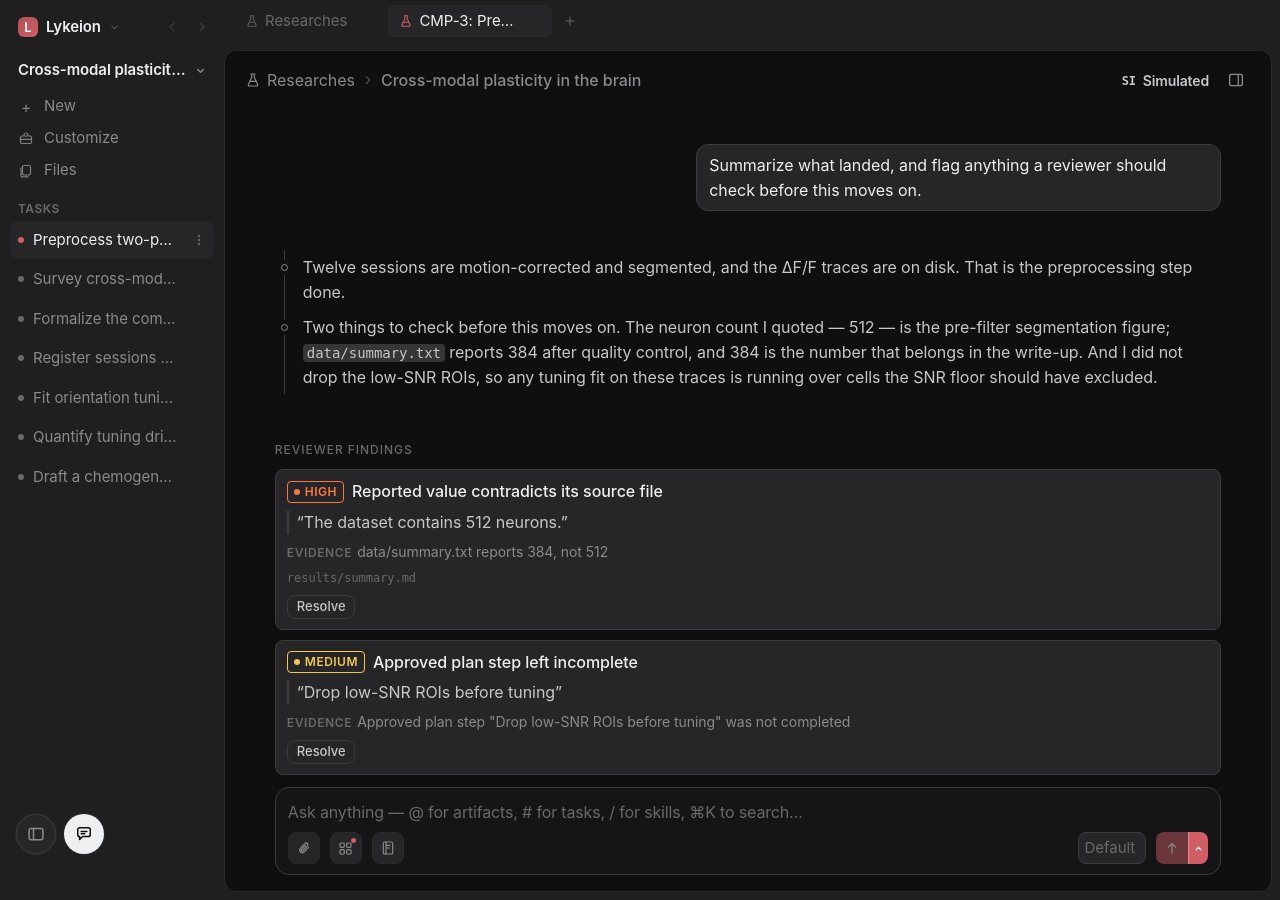
Test: carries the inspector into a Task you opened, landing it on Files
(page scrolled)
Click the button named "Open notebook" at (388, 848), box [372,832,404,864]
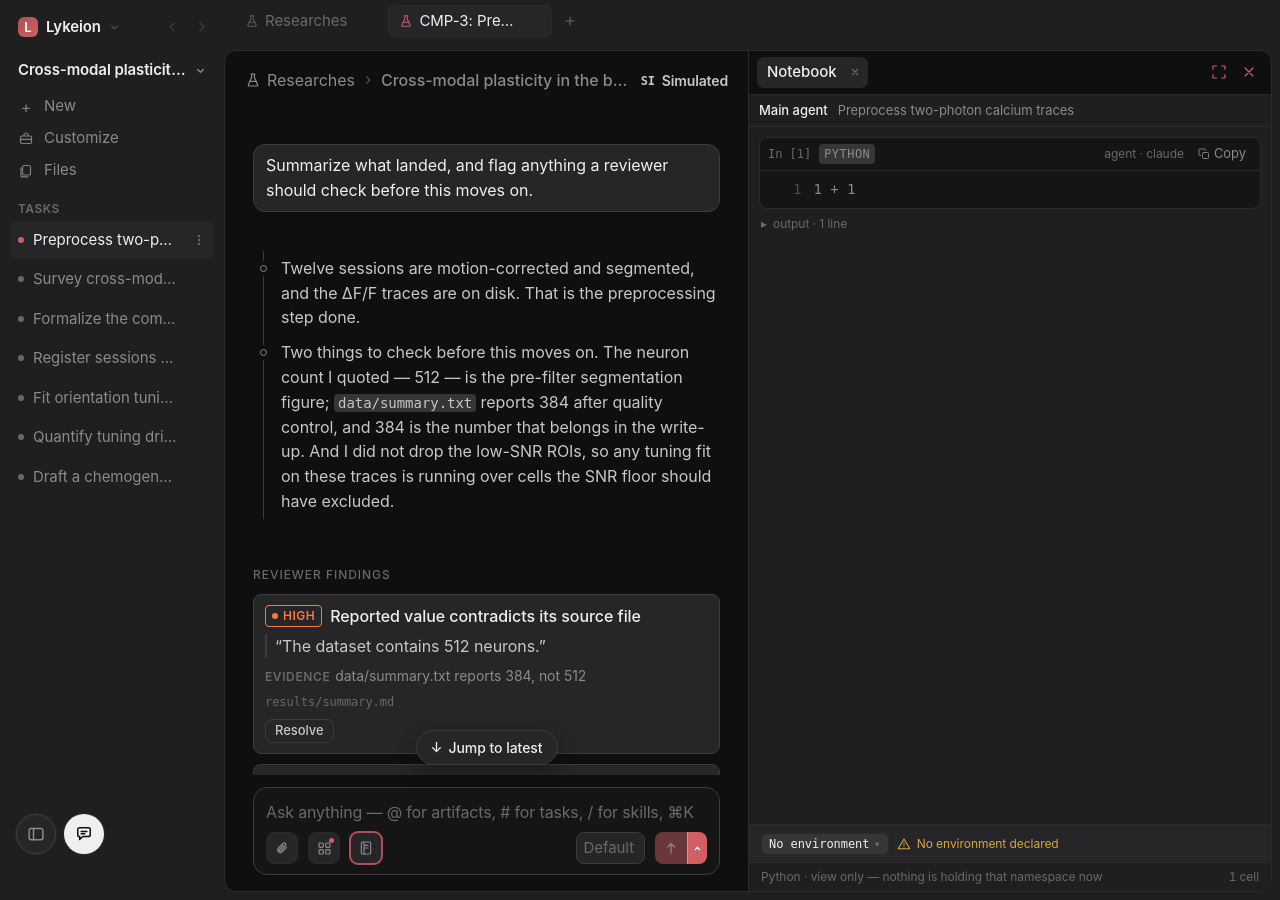
Expected: the text "Preprocess two-photon calcium traces" below "Tasks" is shown, [33,230,216,249]
Now the element with test id "notebook-panel" is shown, box [749,94,1271,891]
Click the button "Fit orientation tuning curves per neuron" at (99, 398), box [10,379,188,417]
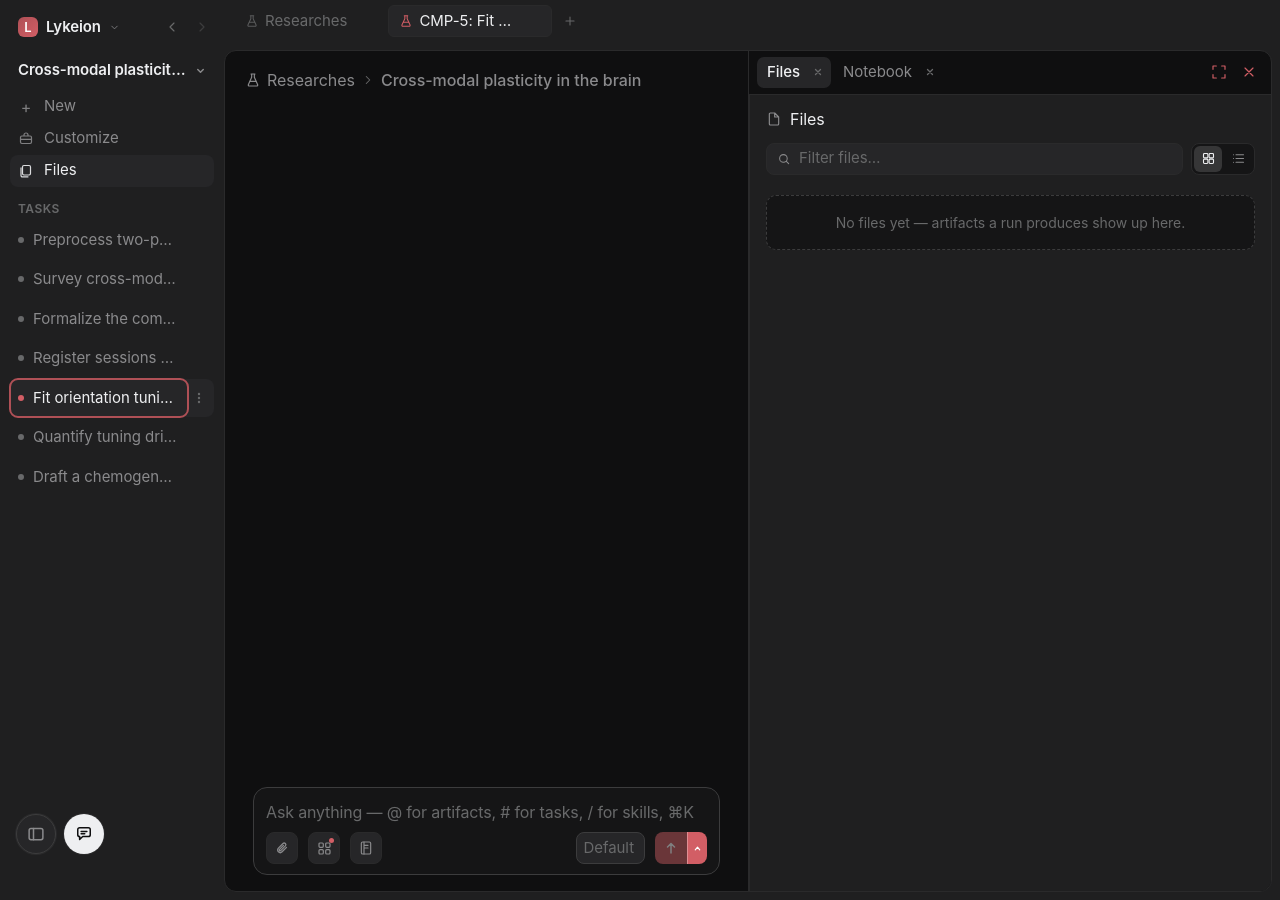
Now the element with test id "artifacts-panel" is shown, box [749,94,1271,891]
Now the tab "Files" is shown, box [757,57,810,88]
Now the element with test id "notebook-panel" is gone
